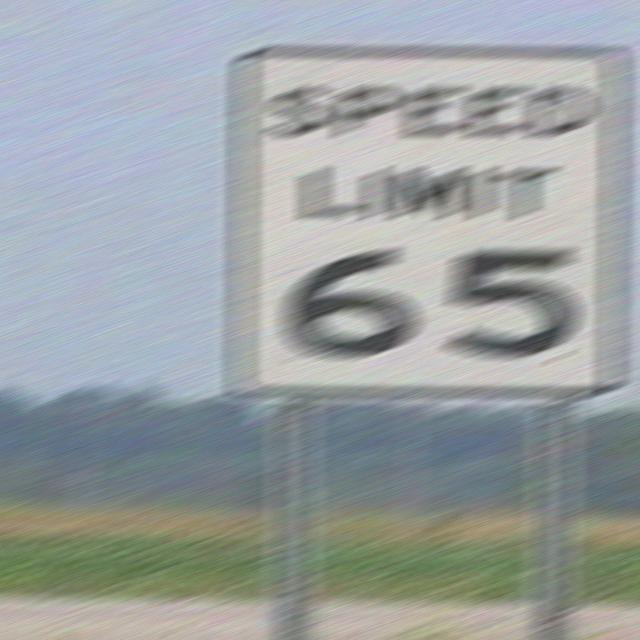speedLimit65: (226, 32, 624, 396)
